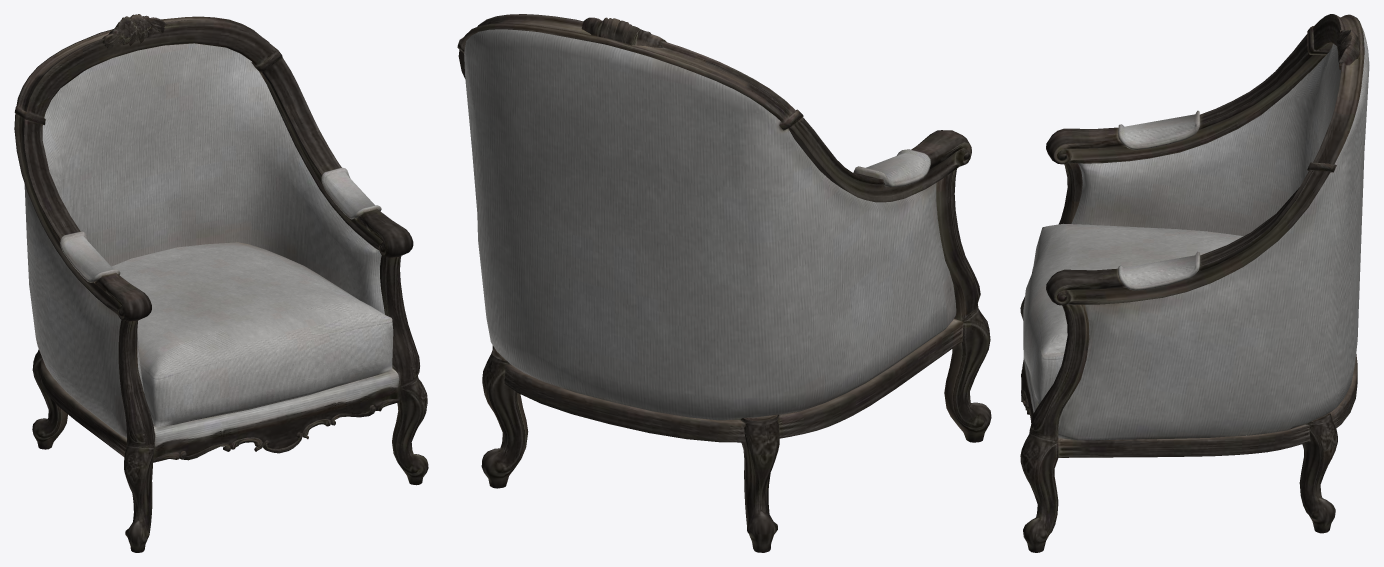
The model's file is ph_armchair_01.glb.
The picture shows the model from 3 angles, left to right: view 1: azimuth 30°, elevation 25°; view 2: azimuth 150°, elevation 25°; view 3: azimuth 270°, elevation 25°; orthographic projection. The views are drawn at different scales.
Visible parts, largest first — view 1: ph_armchair_01; view 2: ph_armchair_01; view 3: ph_armchair_01.
Boxes of the visible parts, left/top/right/bottom form: ph_armchair_01: left=14, top=14, right=428, bottom=552; ph_armchair_01: left=457, top=14, right=991, bottom=552; ph_armchair_01: left=1020, top=14, right=1369, bottom=552.
Bounding box in the file's own units: 0.8484 × 1.07 × 0.7658.
1 material, 1 textured.
